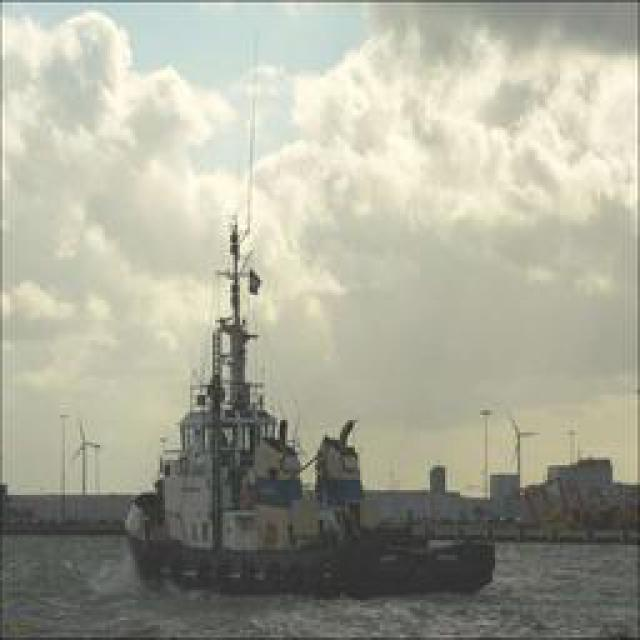Ship: (132, 230, 495, 603)
